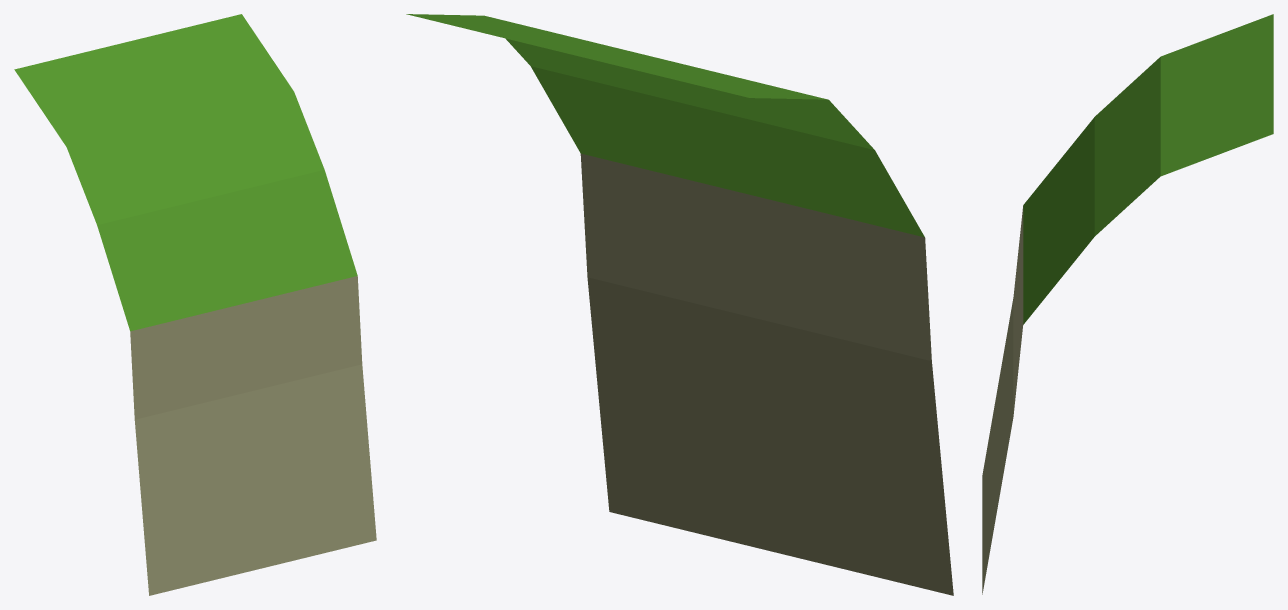
File: CemeteryDownHill.fbx
3 views of the same model, side by side, from view 1: azimuth 30°, elevation 25°; view 2: azimuth 150°, elevation 25°; view 3: azimuth 270°, elevation 25° (orthographic). The views are drawn at different scales.
Visible parts, largest first — view 1: CemeteryDownHill; view 2: CemeteryDownHill; view 3: CemeteryDownHill.
Part boxes in pixels (x1=…): CemeteryDownHill: x1=14, y1=14, x2=376, y2=595; CemeteryDownHill: x1=406, y1=14, x2=953, y2=595; CemeteryDownHill: x1=982, y1=14, x2=1273, y2=594.
Bounding box in the file's own units: 500 × 898 × 513.
